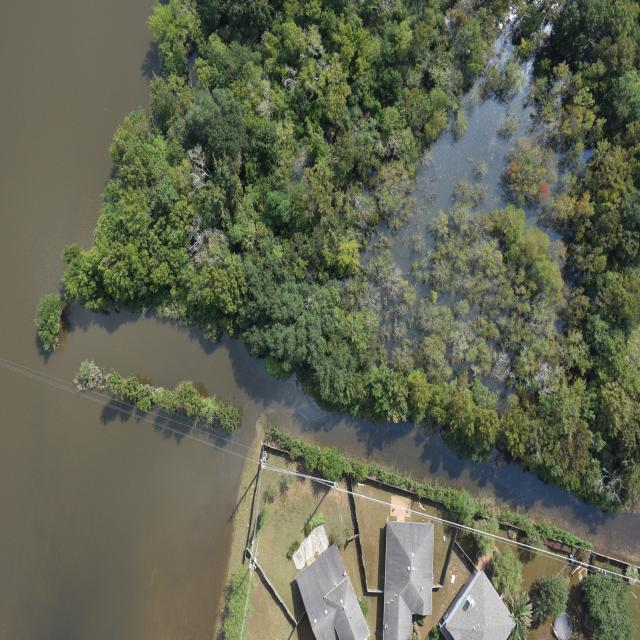fire: (0, 0, 640, 639), (391, 89, 511, 299)
